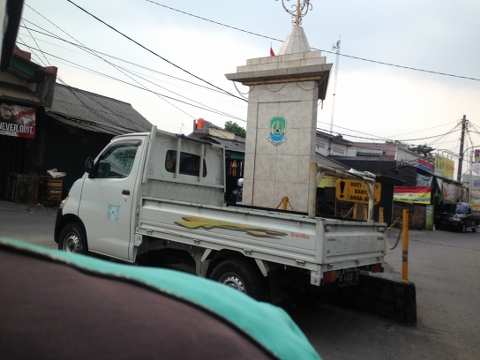mobil: (54, 128, 385, 300), (434, 202, 480, 232)
